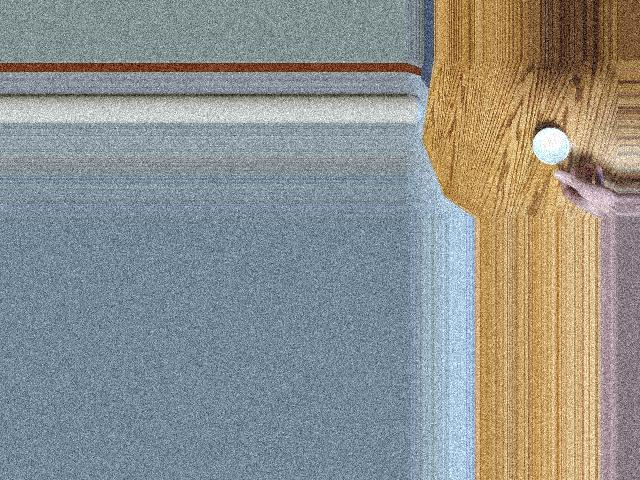cotage: (524, 120, 578, 167)
